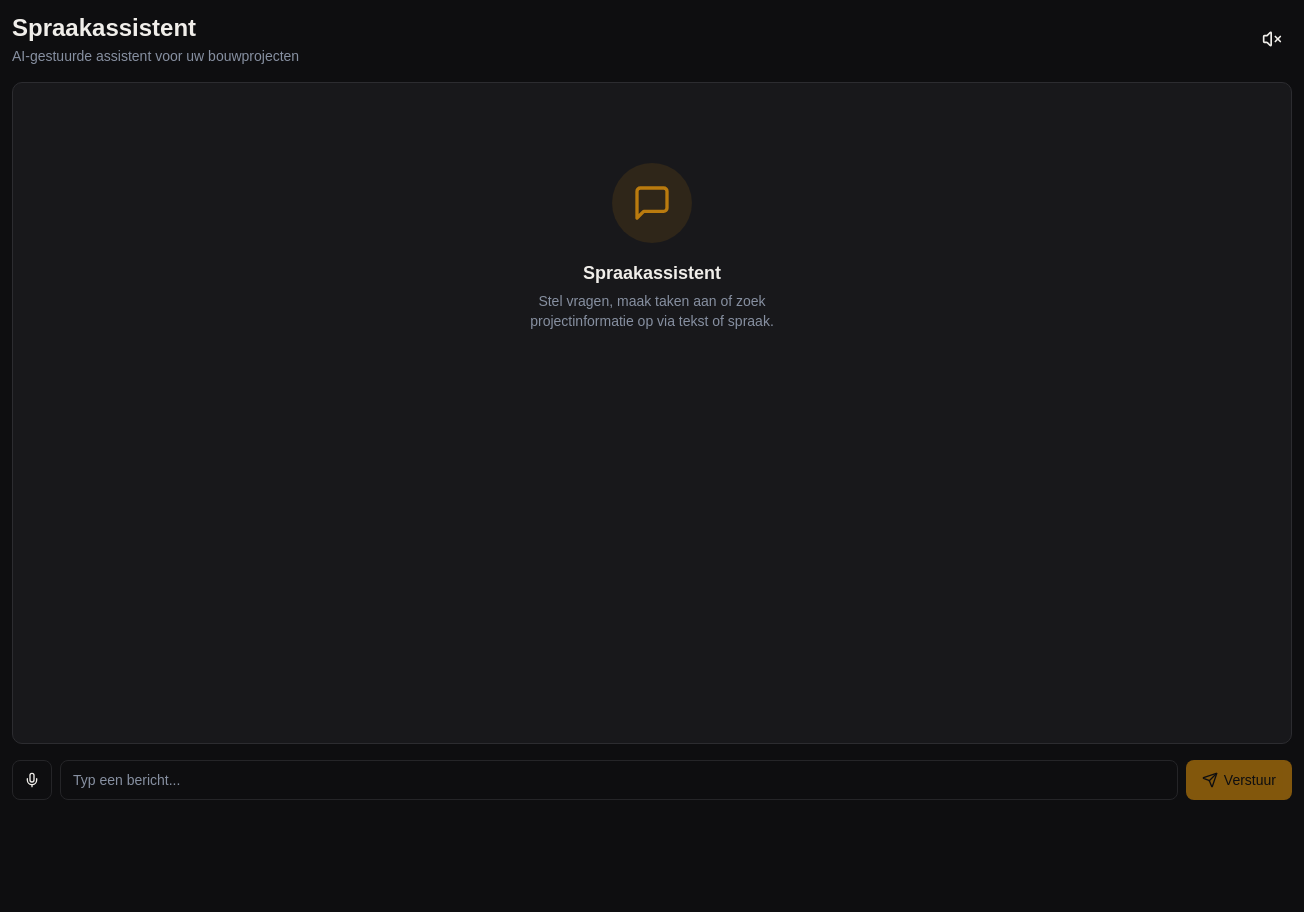
it: VoicePage › displays user message bubble on right after submitting text
Type "Maak een taak aan" into the field with placeholder "Typ een bericht..." at x=619, y=780, box [60,760,1178,800]
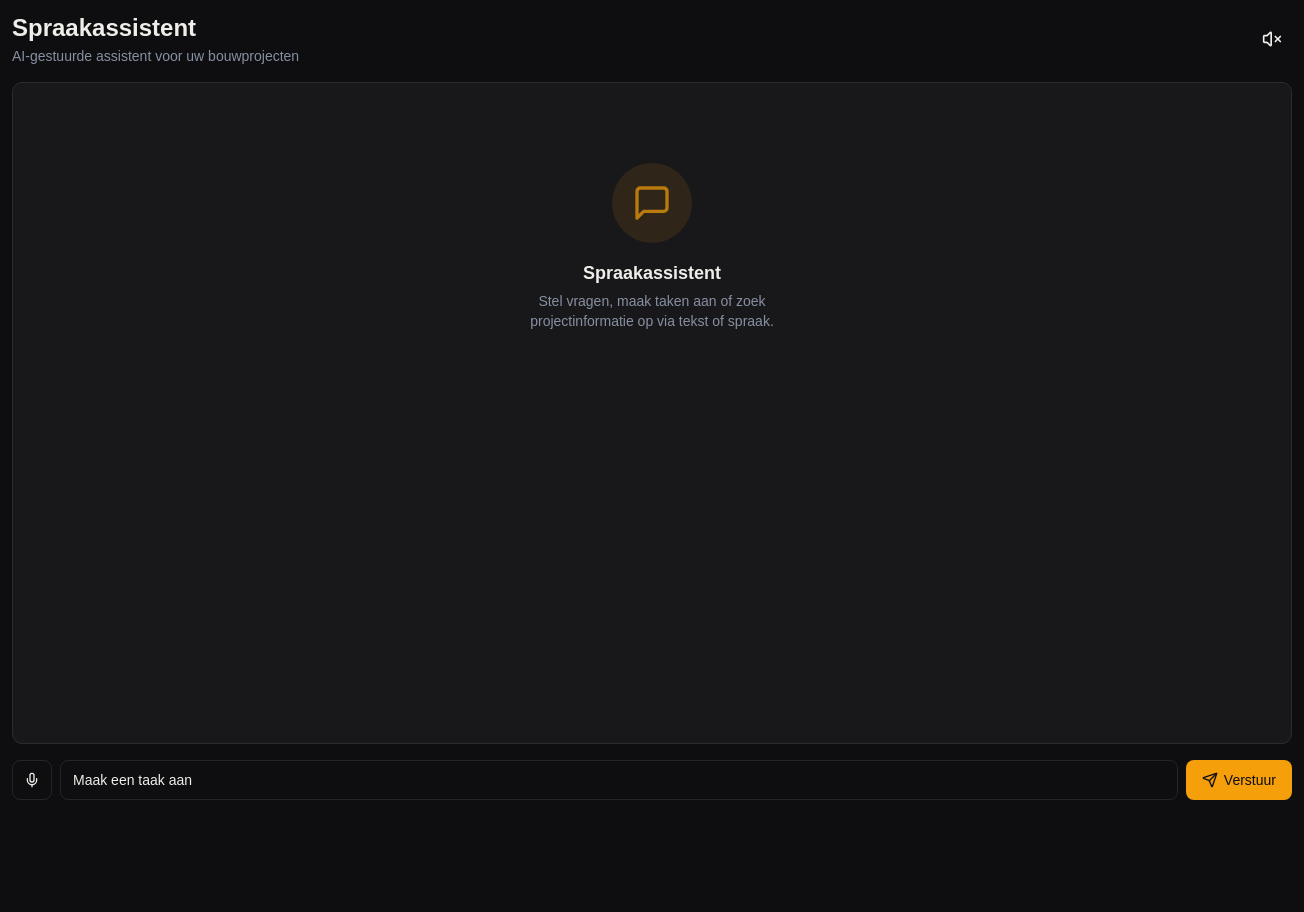
Click the button "Verstuur" at x=1239, y=780, box [1186,760,1292,800]
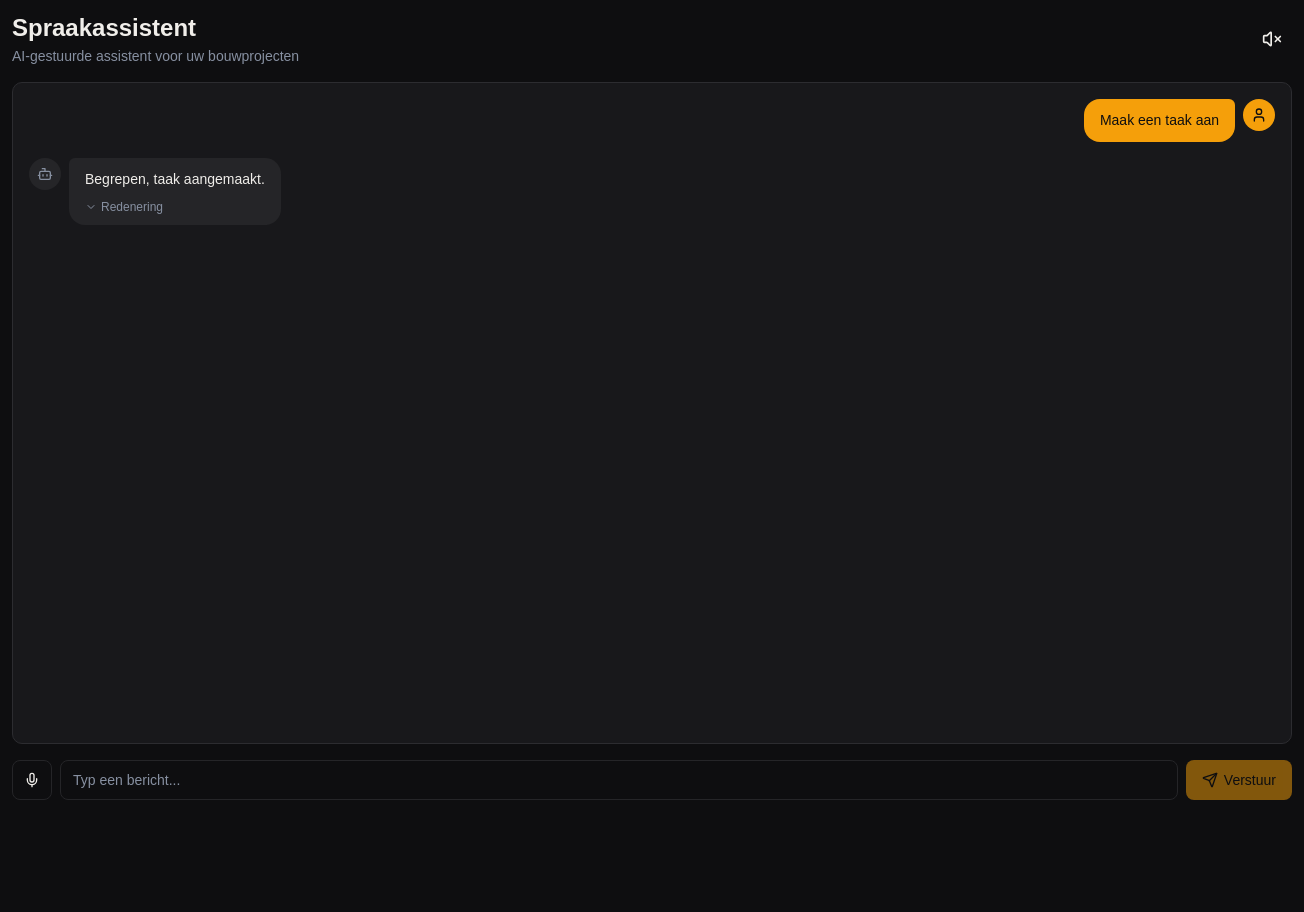
Expected: the text "Maak een taak aan" is shown, [1084,99,1235,142]
Expected: the text with test id "message-user-0" reads "Maak een taak aan", [1100,112,1219,128]
